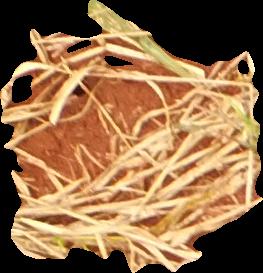soil: (1, 1, 261, 270)
